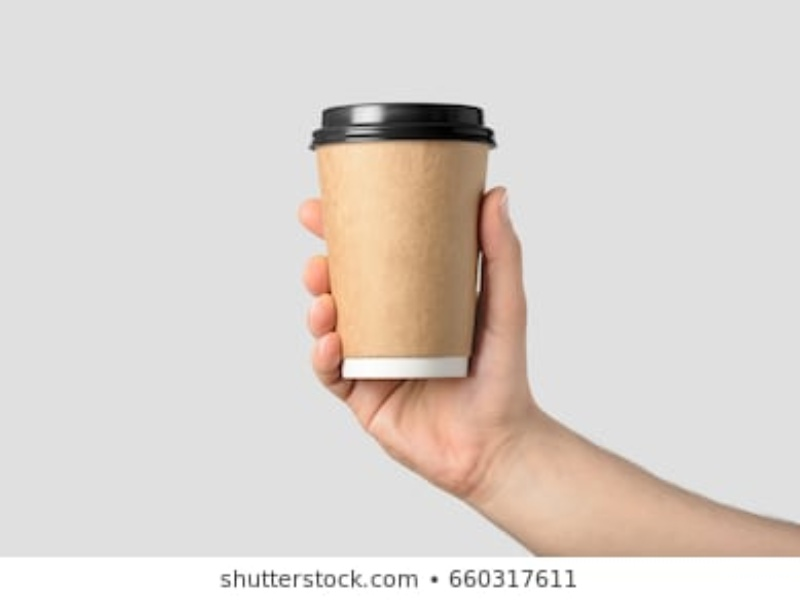coffee-lid: (305, 99, 497, 152)
plastic-cup: (306, 98, 488, 385)
